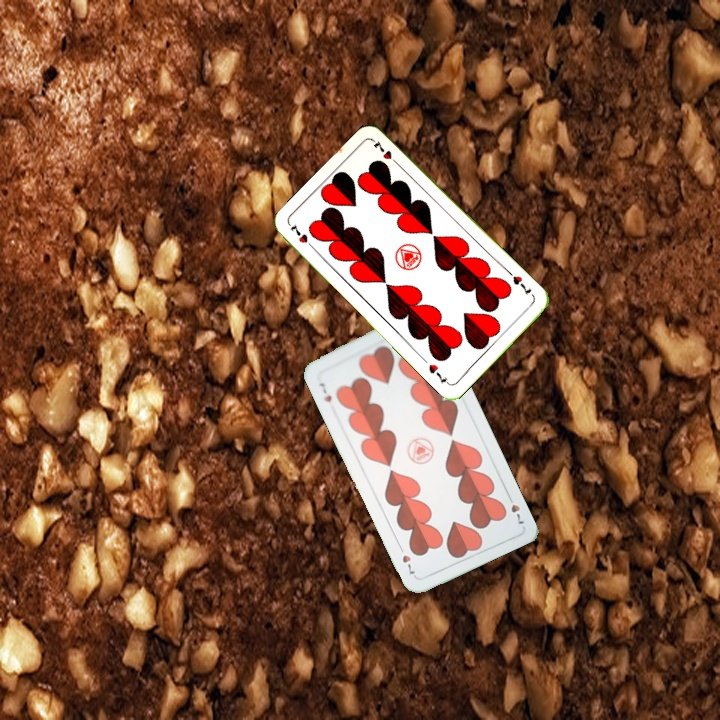H7: (286, 219, 318, 253), (503, 490, 527, 527), (509, 272, 534, 298), (315, 378, 334, 404)
